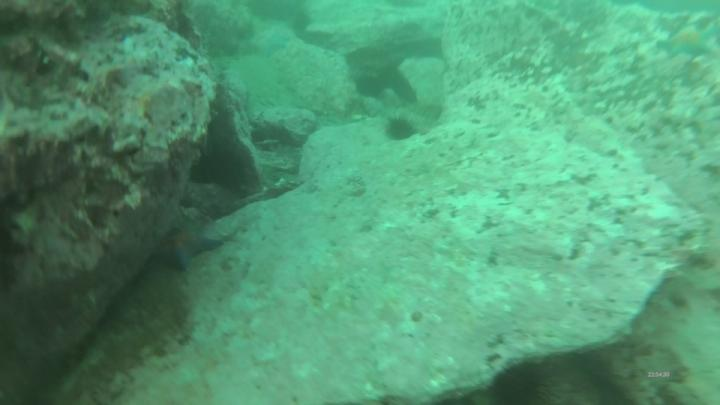echinus: (390, 119, 416, 139)
starfish: (169, 230, 219, 268)
